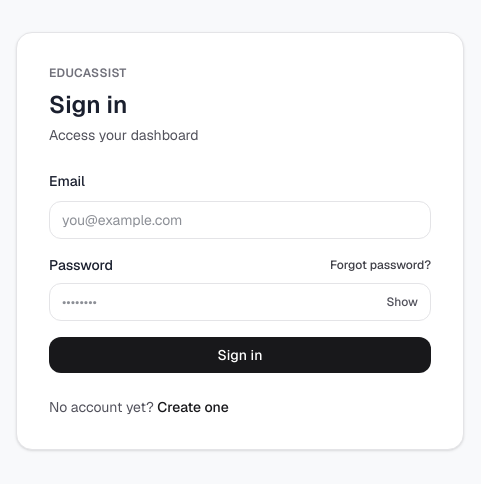
Test: LoginPage › shows the backend login error
Type "user@example.com" into the field with placeholder "you@example.com".
click(240, 220); type("user@example.com")  # box x1=49 y1=201 x2=431 y2=239
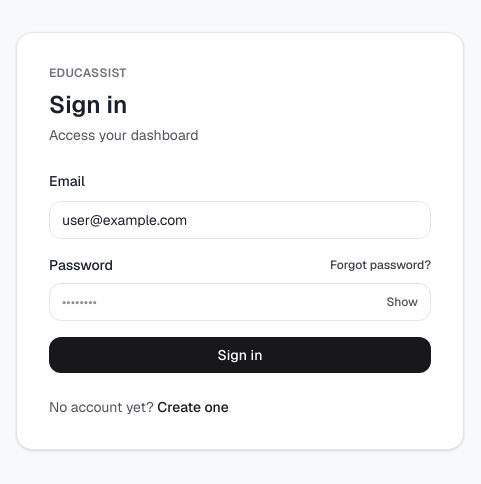
Type "incorrect" into the password field with placeholder "••••••••".
click(220, 302); type("incorrect")  # box x1=62 y1=292 x2=378 y2=312
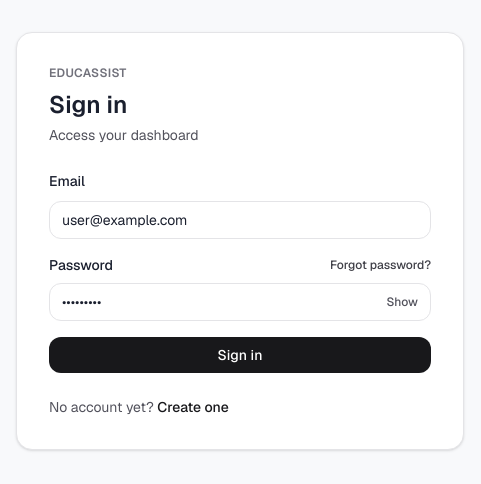
Click the button "Sign in".
click(240, 355)  # box x1=49 y1=337 x2=431 y2=373
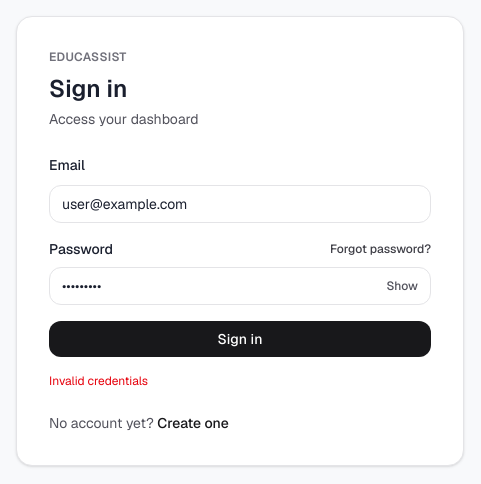
Expected: the text "Invalid credentials" is shown, x1=49 y1=373 x2=148 y2=389
